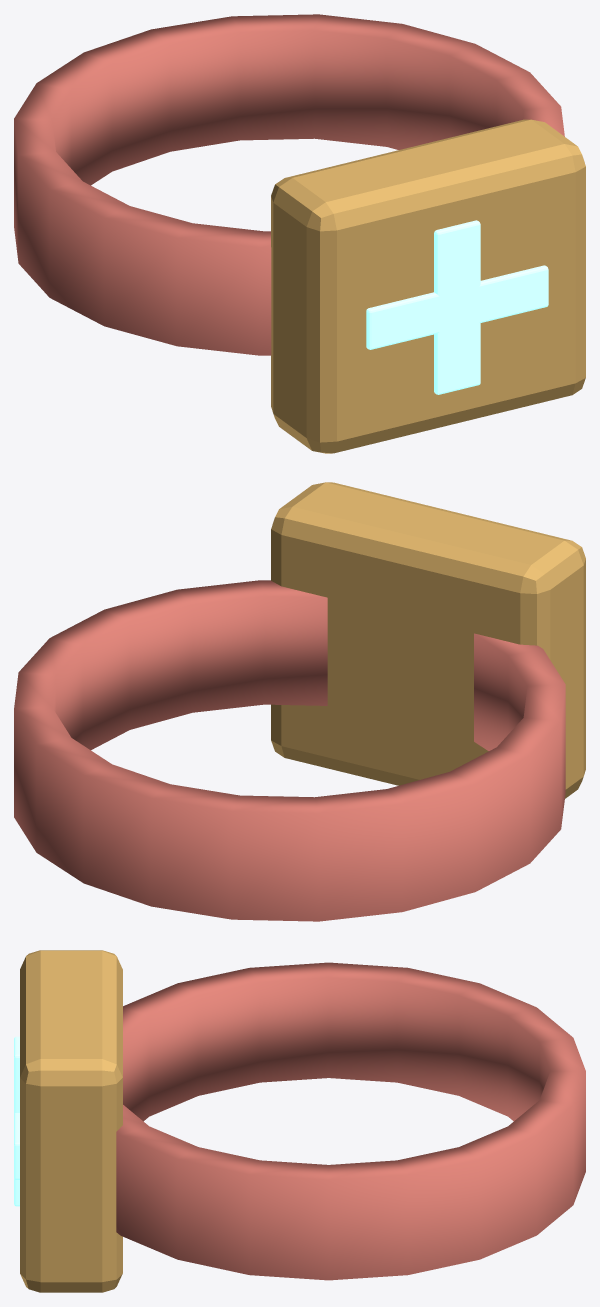
The model's file is AH03_RecoveryWristband.fbx.
3 renders of one model, top to bottom at view 1: azimuth 30°, elevation 25°; view 2: azimuth 150°, elevation 25°; view 3: azimuth 270°, elevation 25°, orthographic. The views are drawn at different scales.
Visible parts, largest first — view 1: AH03_RecoveryWristband_AH03_Rose, AH03_RecoveryWristband_AH03_Gold, AH03_RecoveryWristband_AH03_StageGlowMint; view 2: AH03_RecoveryWristband_AH03_Rose, AH03_RecoveryWristband_AH03_Gold; view 3: AH03_RecoveryWristband_AH03_Rose, AH03_RecoveryWristband_AH03_Gold, AH03_RecoveryWristband_AH03_StageGlowMint.
Part boxes in pixels (box(x1,y1,x2,y2)): AH03_RecoveryWristband_AH03_Rose: box(14, 14, 564, 355); AH03_RecoveryWristband_AH03_Gold: box(271, 119, 585, 453); AH03_RecoveryWristband_AH03_StageGlowMint: box(366, 220, 548, 394); AH03_RecoveryWristband_AH03_Rose: box(14, 580, 565, 921); AH03_RecoveryWristband_AH03_Gold: box(271, 482, 585, 798); AH03_RecoveryWristband_AH03_Rose: box(116, 962, 585, 1280); AH03_RecoveryWristband_AH03_Gold: box(20, 950, 122, 1292); AH03_RecoveryWristband_AH03_StageGlowMint: box(14, 1036, 19, 1206).
Size of the model in its own units: 13 by 6.5 by 14.45.
